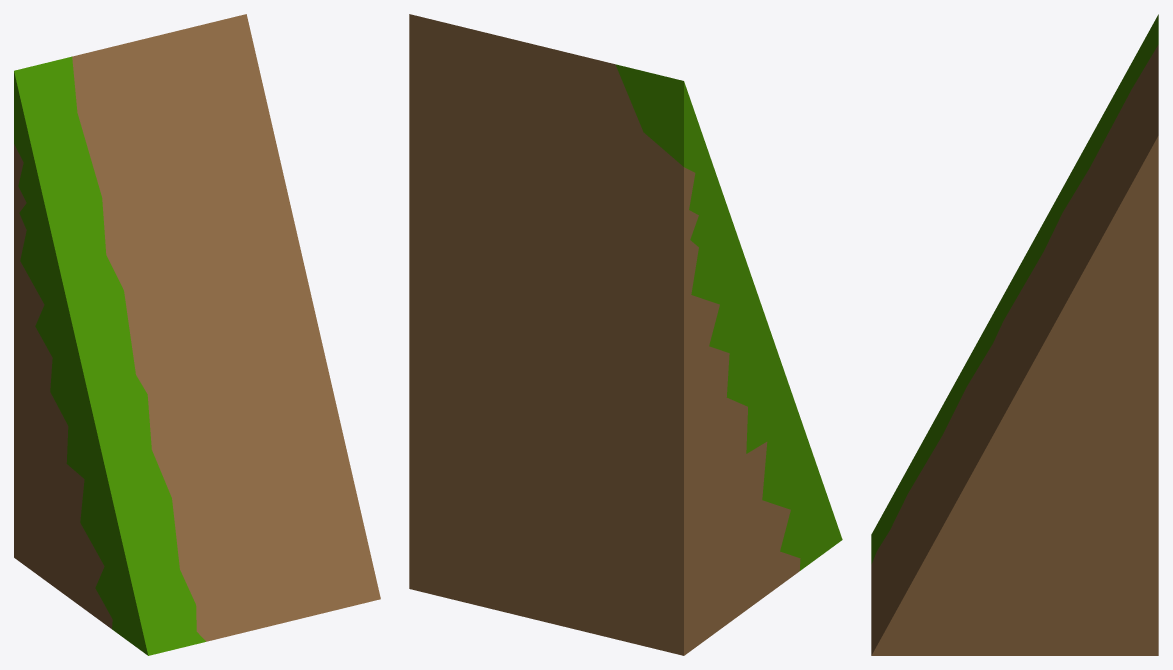
File: RPG_Tiles_Square_Covered_Path_Edge_Left_Ramp_Double_01.FBX
The picture shows the model from 3 angles, left to right: view 1: azimuth 30°, elevation 25°; view 2: azimuth 150°, elevation 25°; view 3: azimuth 270°, elevation 25°; orthographic projection. The views are drawn at different scales.
Visible parts, largest first — view 1: RPG_Tiles_Square_Covered_Path_Edge_Left_Ramp_Double_01; view 2: RPG_Tiles_Square_Covered_Path_Edge_Left_Ramp_Double_01; view 3: RPG_Tiles_Square_Covered_Path_Edge_Left_Ramp_Double_01.
Boxes of the visible parts, x1=… form: RPG_Tiles_Square_Covered_Path_Edge_Left_Ramp_Double_01: x1=14, y1=14, x2=380, y2=655; RPG_Tiles_Square_Covered_Path_Edge_Left_Ramp_Double_01: x1=409, y1=14, x2=842, y2=655; RPG_Tiles_Square_Covered_Path_Edge_Left_Ramp_Double_01: x1=871, y1=14, x2=1158, y2=655.
Size of the model in its own units: 3000 by 6000 by 3000.
